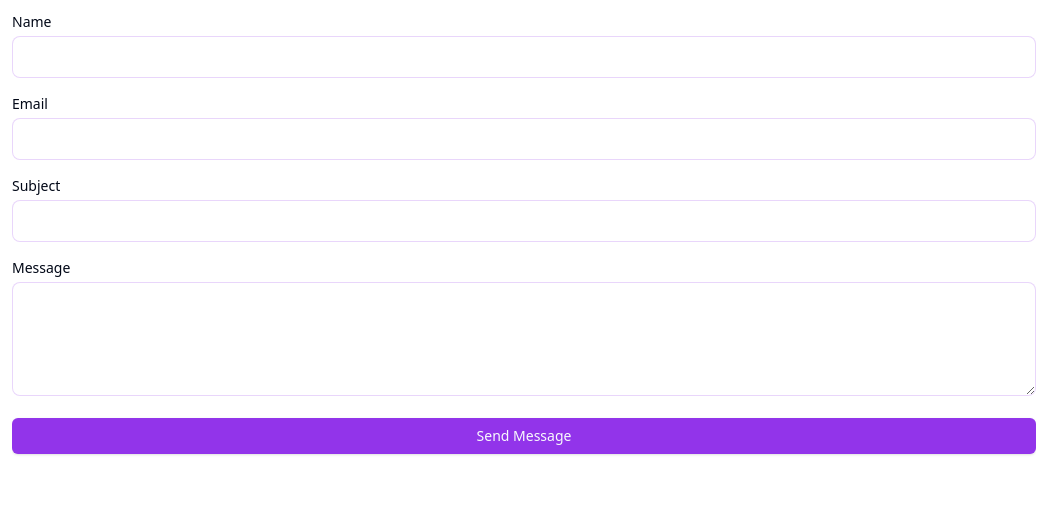
ContactForm Component › handles submission errors
The image size is (1048, 508).
Fill out and submit the form
Type "John Doe" into the field with test id "name-input" at x=524, y=57, box [12,36,1036,78]
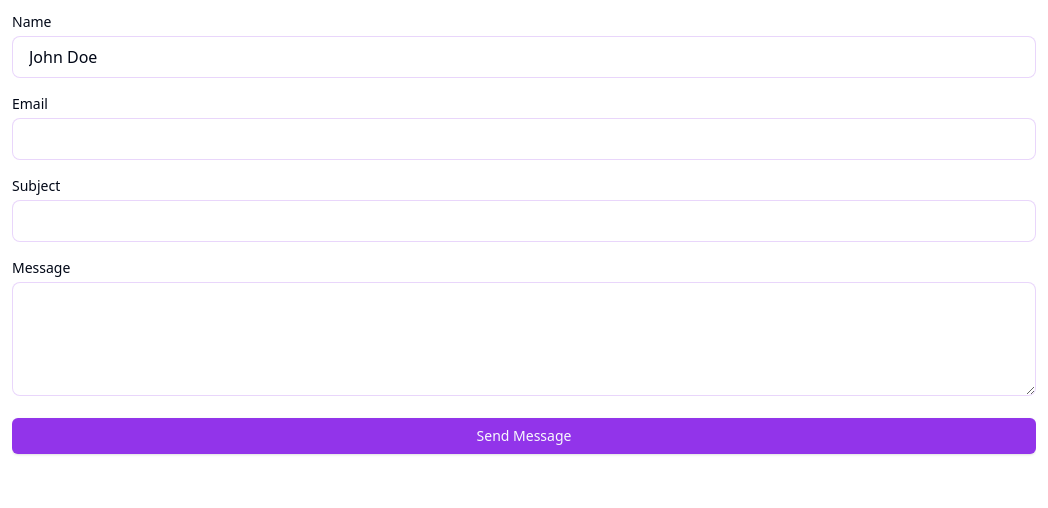
Type "john@example.com" into the field with test id "email-input" at x=524, y=139, box [12,118,1036,160]
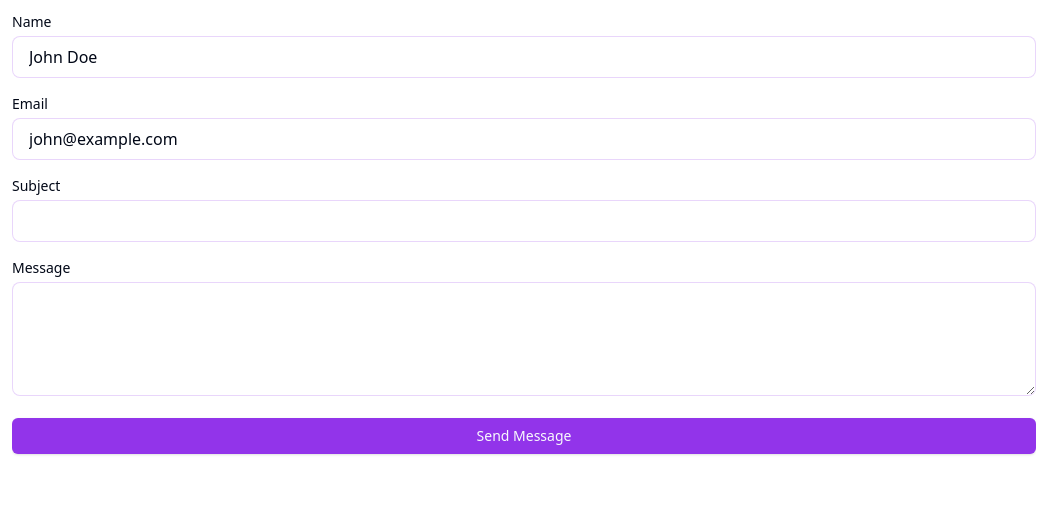
Type "Test Subject" into the field with test id "subject-input" at x=524, y=221, box [12,200,1036,242]
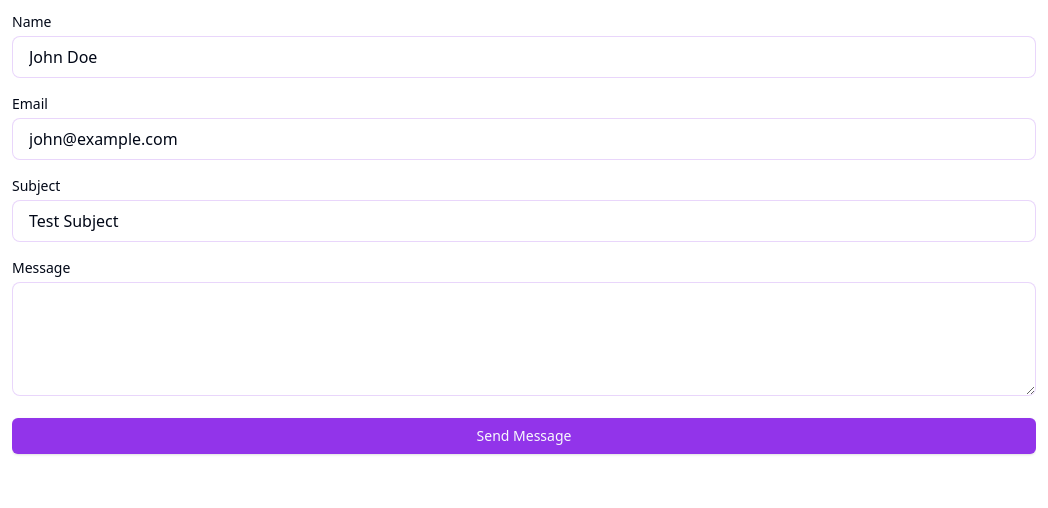
Type "Test Message" into the text box with test id "message-input" at x=524, y=339, box [12,282,1036,396]
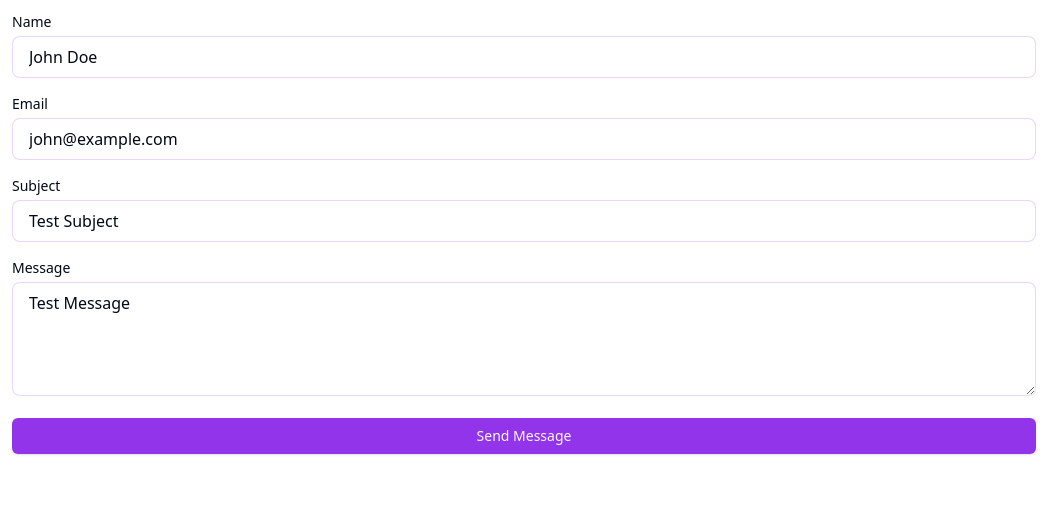
Click the button with test id "submit-button" at x=524, y=436, box [12,418,1036,454]
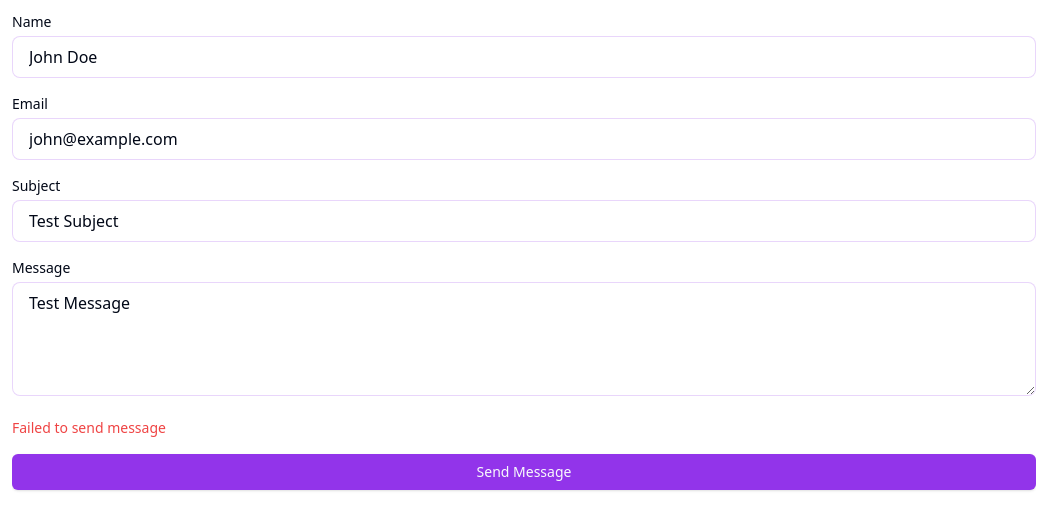
Expected: the text with test id "error-message" reads "Failed to send message", [12,418,166,437]
